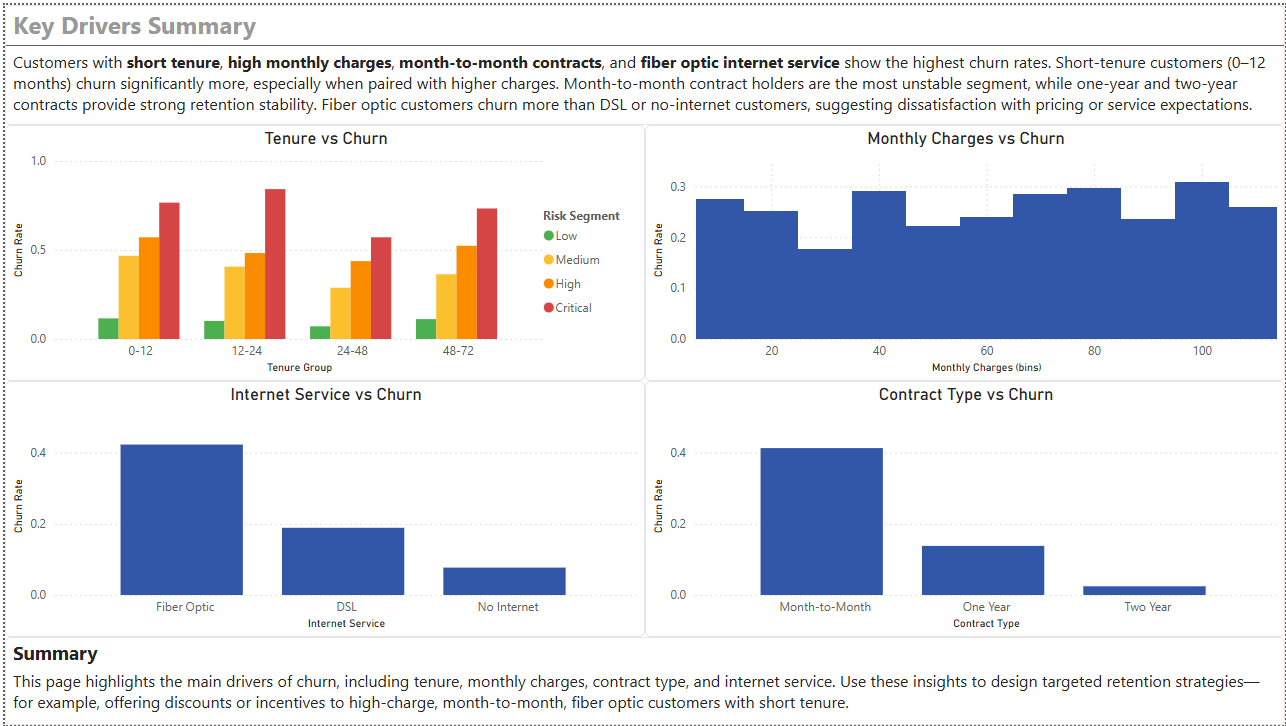

The page's visual inventory and layout, read from the dashboard file:
{"tool":"powerbi","page":{"name":"Customer Insights & Drivers","canvas":[1280,720],"ordinal":2},"visuals":[{"type":"clusteredColumnChart","title":"Tenure vs Churn","fields":{"Y":["_Measures.Churn Rate"],"Category":["Telco Churn Dashboard.Tenure Group"],"Series":["Telco Churn Dashboard.Risk Segment"]},"box":[0,120,640,256],"z":0},{"type":"clusteredColumnChart","title":"Monthly Charges vs Churn","fields":{"Category":["Telco Churn Dashboard.Monthly Charges (bins)"],"Y":["_Measures.Churn Rate"]},"box":[640,120,640,256],"z":1000},{"type":"clusteredColumnChart","title":"Internet Service vs Churn","fields":{"Y":["_Measures.Churn Rate"],"Category":["Telco Churn Dashboard.Internet Service"]},"box":[0,376,640,256],"z":2000},{"type":"clusteredColumnChart","title":"Contract Type vs Churn","fields":{"Y":["_Measures.Churn Rate"],"Category":["Telco Churn Dashboard.Contract Type"]},"box":[640,376,640,256],"z":3000},{"type":"textbox","title":"Summary","box":[0,632,1280,88],"z":4000},{"type":"textbox","title":"Key Drivers Summary","box":[0,0,1280,120],"z":5000}]}

Visuals, with their boxes in screenshot pixels (x1, y1, x2, y2), scaled from the page's 1280x720 canvas onto the 1286x726 screenshot:
"Tenure vs Churn" clusteredColumnChart: box(0, 121, 643, 379)
"Monthly Charges vs Churn" clusteredColumnChart: box(643, 121, 1285, 379)
"Internet Service vs Churn" clusteredColumnChart: box(0, 379, 643, 637)
"Contract Type vs Churn" clusteredColumnChart: box(643, 379, 1285, 637)
"Summary" textbox: box(0, 637, 1285, 725)
"Key Drivers Summary" textbox: box(0, 0, 1285, 121)
